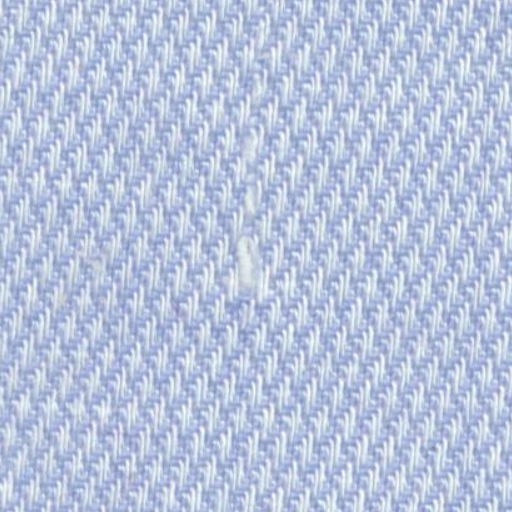DuanSha: (210, 145, 278, 323)
